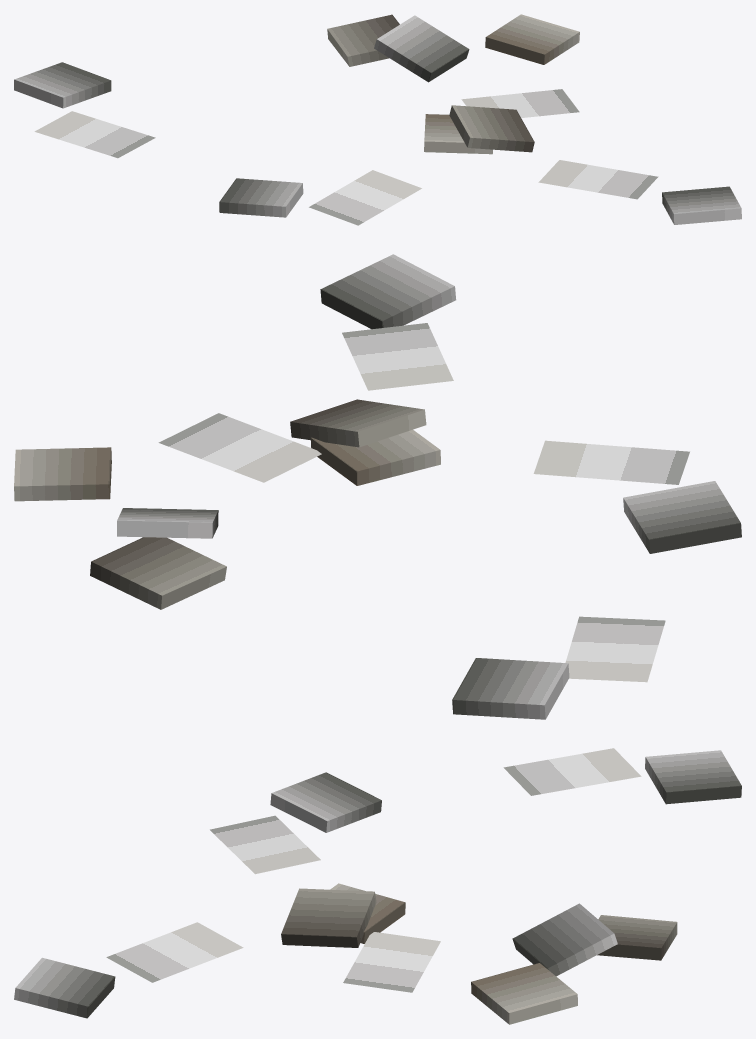
Rendered from DL_Obj_Level3_Rubble3.fbx.
3 renders of one model, top to bottom at view 1: azimuth 30°, elevation 25°; view 2: azimuth 150°, elevation 25°; view 3: azimuth 270°, elevation 25°, orthographic. The views are drawn at different scales.
Parts seen in each view (by area): view 1: Level3_Rubble3; view 2: Level3_Rubble3; view 3: Level3_Rubble3.
Part boxes in pixels (bbox=[...]): Level3_Rubble3: bbox=[14, 14, 741, 225]; Level3_Rubble3: bbox=[14, 254, 741, 719]; Level3_Rubble3: bbox=[14, 748, 741, 1024].
Size of the model in its own units: 163 by 11.83 by 181.
